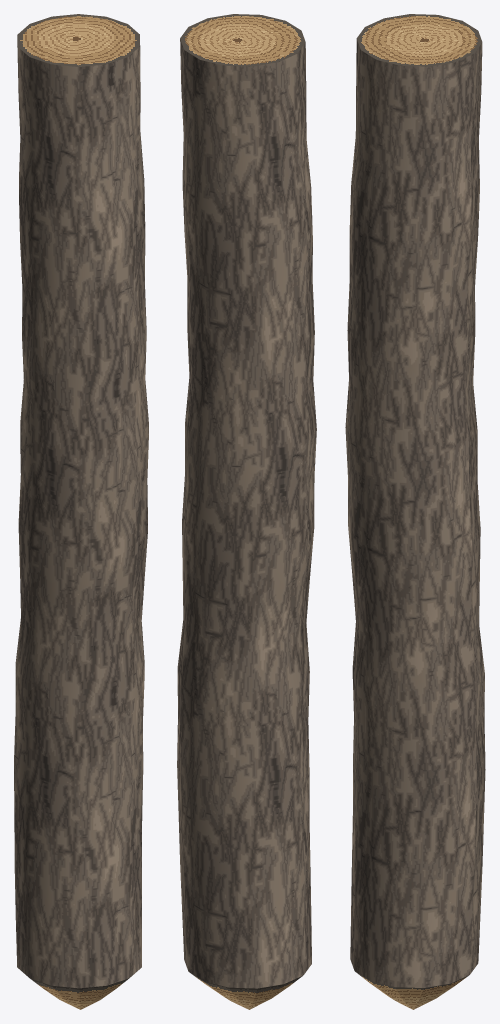
Rendered from environment_elm_log_v76.fbx.
The picture shows the model from 3 angles, left to right: view 1: azimuth 90°, elevation 25°; view 2: azimuth 150°, elevation 25°; view 3: azimuth 330°, elevation 25°; orthographic projection.
Visible parts, largest first — view 1: environment_elm_log_v76; view 2: environment_elm_log_v76; view 3: environment_elm_log_v76.
Part boxes in pixels (left/top/right/bottom): environment_elm_log_v76: left=14, top=14, right=148, bottom=1009; environment_elm_log_v76: left=177, top=14, right=316, bottom=1009; environment_elm_log_v76: left=345, top=14, right=485, bottom=1009.
Bounding box in the file's own units: 129 × 1000 × 127.
2 materials, 2 textured.
